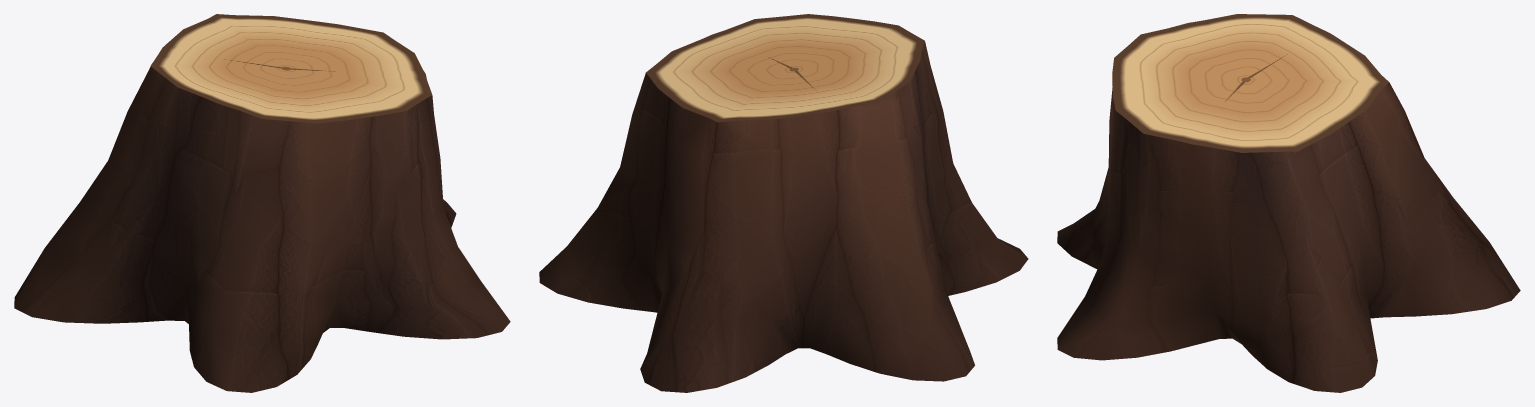
The model's file is Stump_CommonTree_5.gltf.
3 views of the same model, side by side, from view 1: azimuth 30°, elevation 25°; view 2: azimuth 150°, elevation 25°; view 3: azimuth 270°, elevation 25° (orthographic). The views are drawn at different scales.
Visible parts, largest first — view 1: Stump_CommonTree_5; view 2: Stump_CommonTree_5; view 3: Stump_CommonTree_5.
Part boxes in pixels (x1,y1,x2,y2): Stump_CommonTree_5: (14, 14, 510, 392); Stump_CommonTree_5: (539, 14, 1028, 392); Stump_CommonTree_5: (1057, 14, 1520, 392).
Size of the model in its own units: 1.42 by 0.7295 by 1.35.
2 materials, 2 textured.
